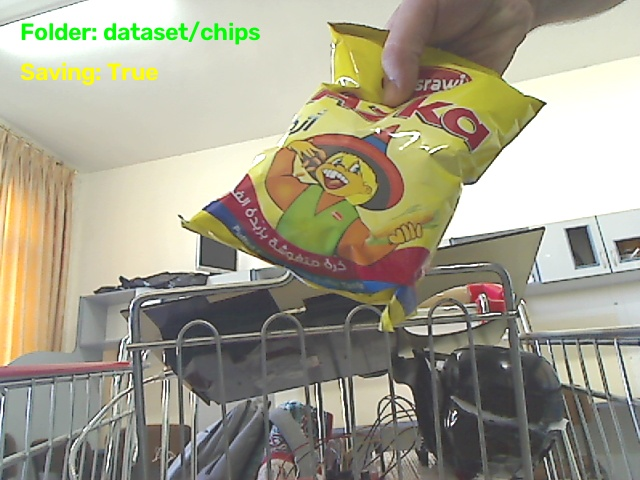chips: (183, 24, 542, 330)
